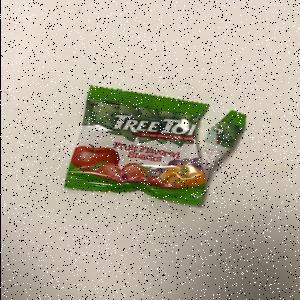Trash: (64, 85, 248, 209)
